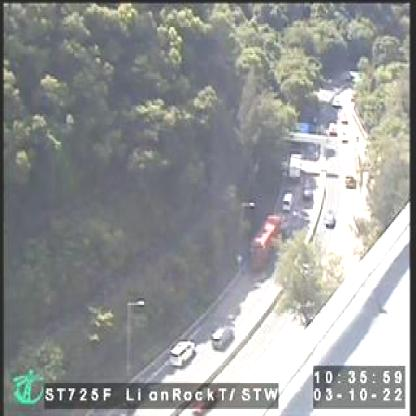Bus: (251, 214, 282, 271)
Car: (170, 340, 194, 364), (210, 328, 232, 346), (302, 177, 312, 203), (324, 209, 334, 224), (284, 192, 292, 210), (344, 174, 354, 188)
Truck: (288, 153, 298, 180)
